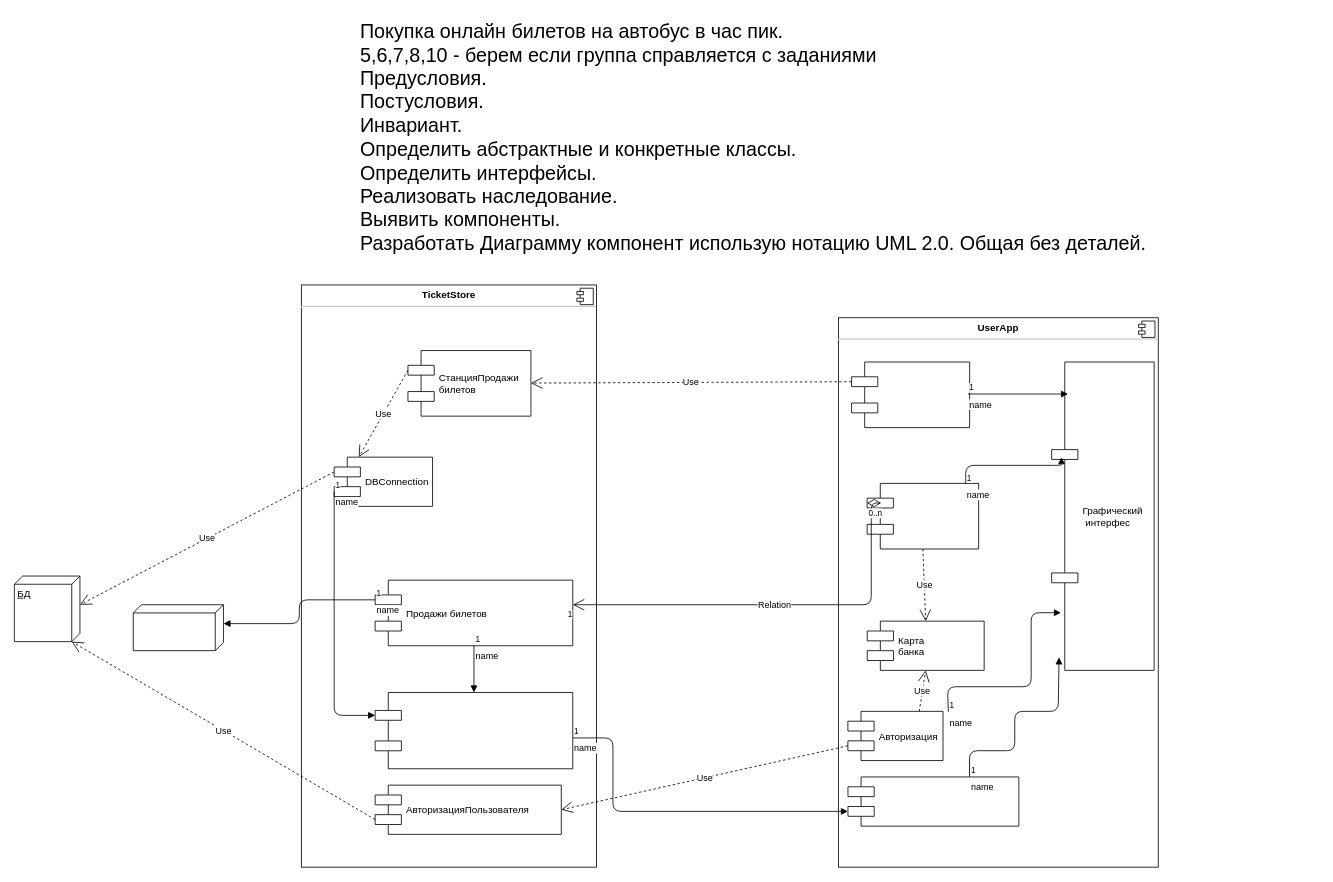
Some shapes in this 1333 by 882 pixel diagram are drawn without their labels. Here are the shapes that lost their labels. From the top down, the box of each, then its label:
(851, 361, 970, 428): Поиск билетов
(866, 483, 979, 549): Оплата билетов
(132, 604, 223, 651): BANK
(374, 692, 573, 769): Бронироания билетов
(847, 776, 1019, 826): ORDER
